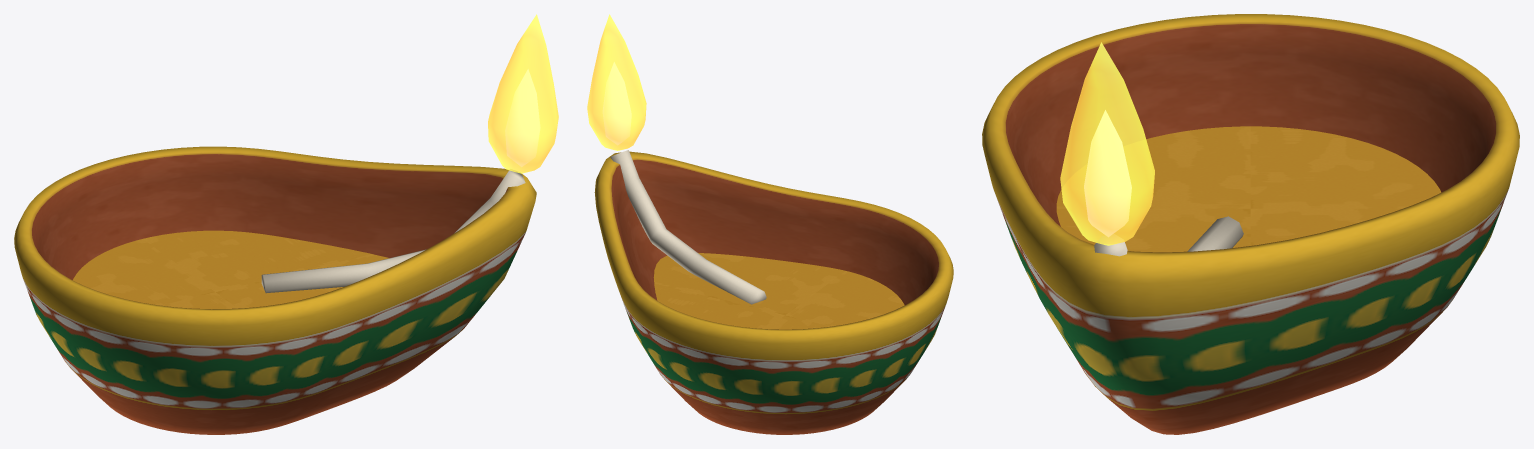
File: diya.glb
3 renders of one model, left to right at view 1: azimuth 30°, elevation 25°; view 2: azimuth 150°, elevation 25°; view 3: azimuth 270°, elevation 25°, orthographic. The views are drawn at different scales.
Parts seen in each view (by area): view 1: Clay diya, Oil, Flame, Cotton wick, Flame core; view 2: Clay diya, Oil, Flame, Cotton wick, Flame core; view 3: Clay diya, Oil, Flame, Flame core, Cotton wick.
Part boxes in pixels (x1,y1,x2,y2): Clay diya: [14, 146, 536, 434]; Oil: [73, 230, 389, 309]; Flame: [488, 14, 558, 173]; Cotton wick: [261, 170, 525, 293]; Flame core: [505, 69, 540, 166]; Clay diya: [594, 151, 953, 434]; Oil: [653, 253, 904, 329]; Flame: [587, 14, 646, 150]; Cotton wick: [610, 150, 766, 304]; Flame core: [603, 62, 631, 145]; Clay diya: [982, 14, 1519, 434]; Oil: [1056, 126, 1441, 252]; Flame: [1060, 42, 1154, 245]; Flame core: [1084, 110, 1131, 236]; Cotton wick: [1094, 216, 1243, 256].
Size of the model in its own units: 0.1031 by 0.0745 by 0.0781.
5 materials, 5 textured.
